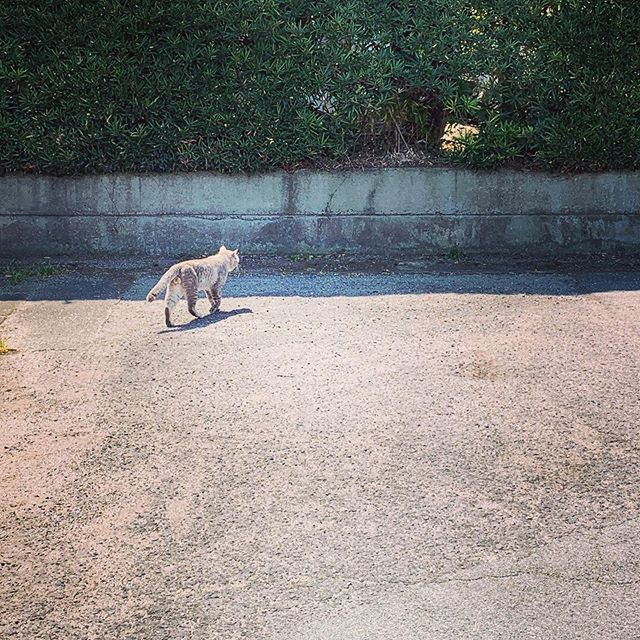animal: (141, 242, 247, 323)
